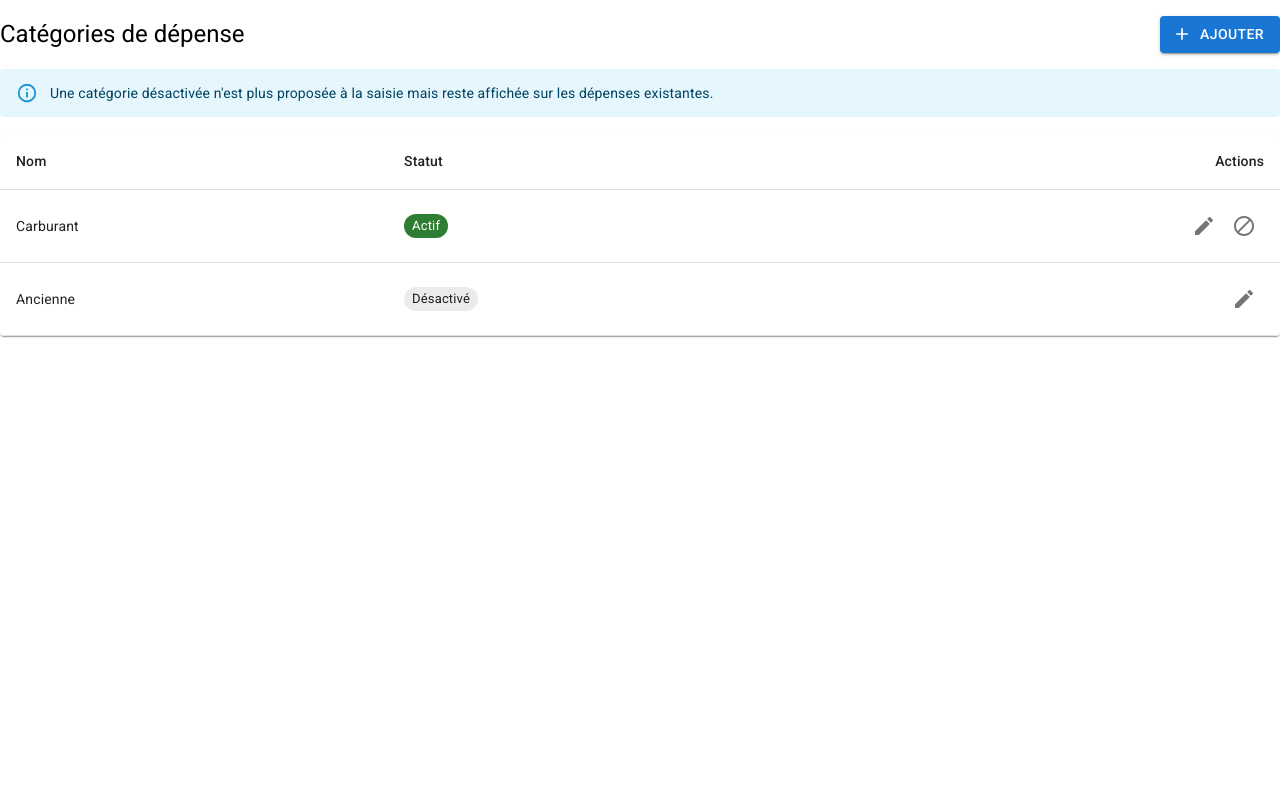
Test: ExpenseCategoriesPage › renomme une catégorie et affiche l'erreur de doublon en français
Check: the text "Carburant" is shown, box [0,189,388,262]
Click the button named "Renommer Carburant".
click(1204, 226)  # box [1184,206,1224,246]
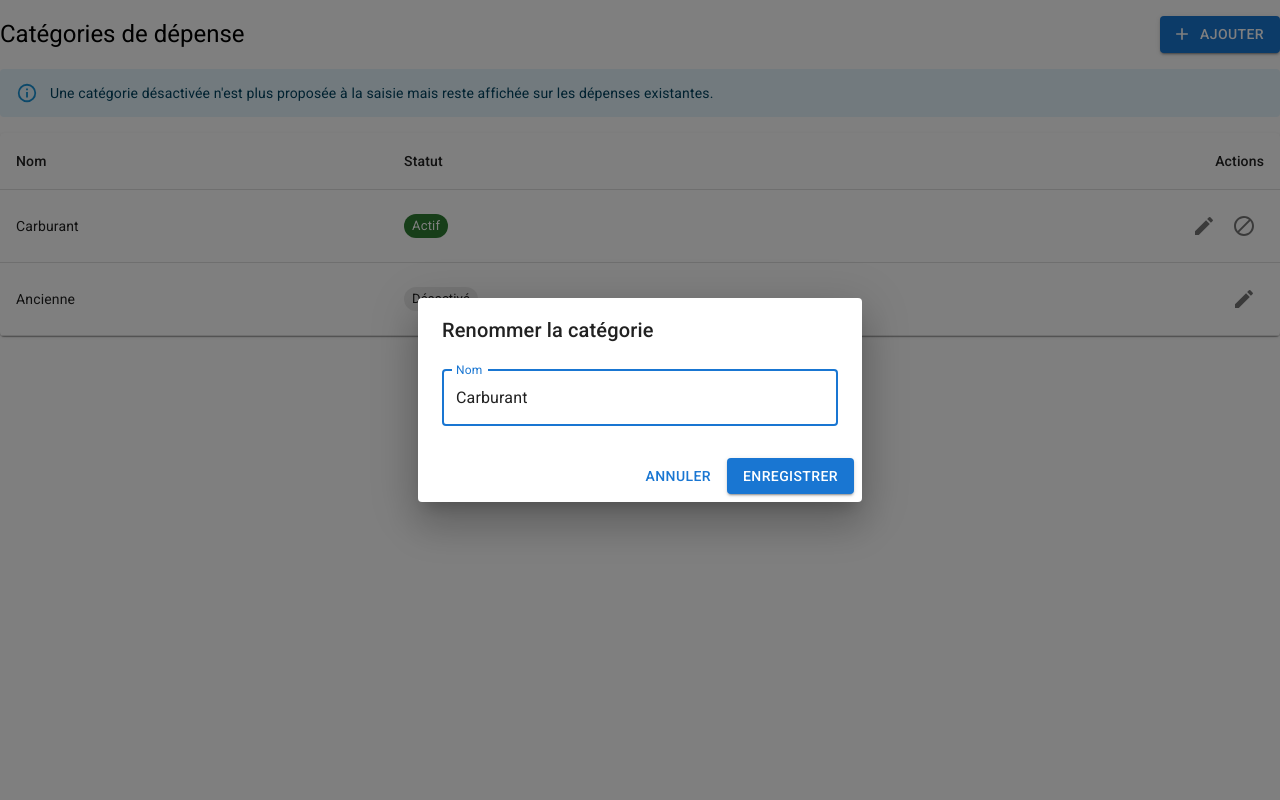
Replace the text in the field labelled "Nom" with "Péage" at (640, 398), box [442,370,838,426]
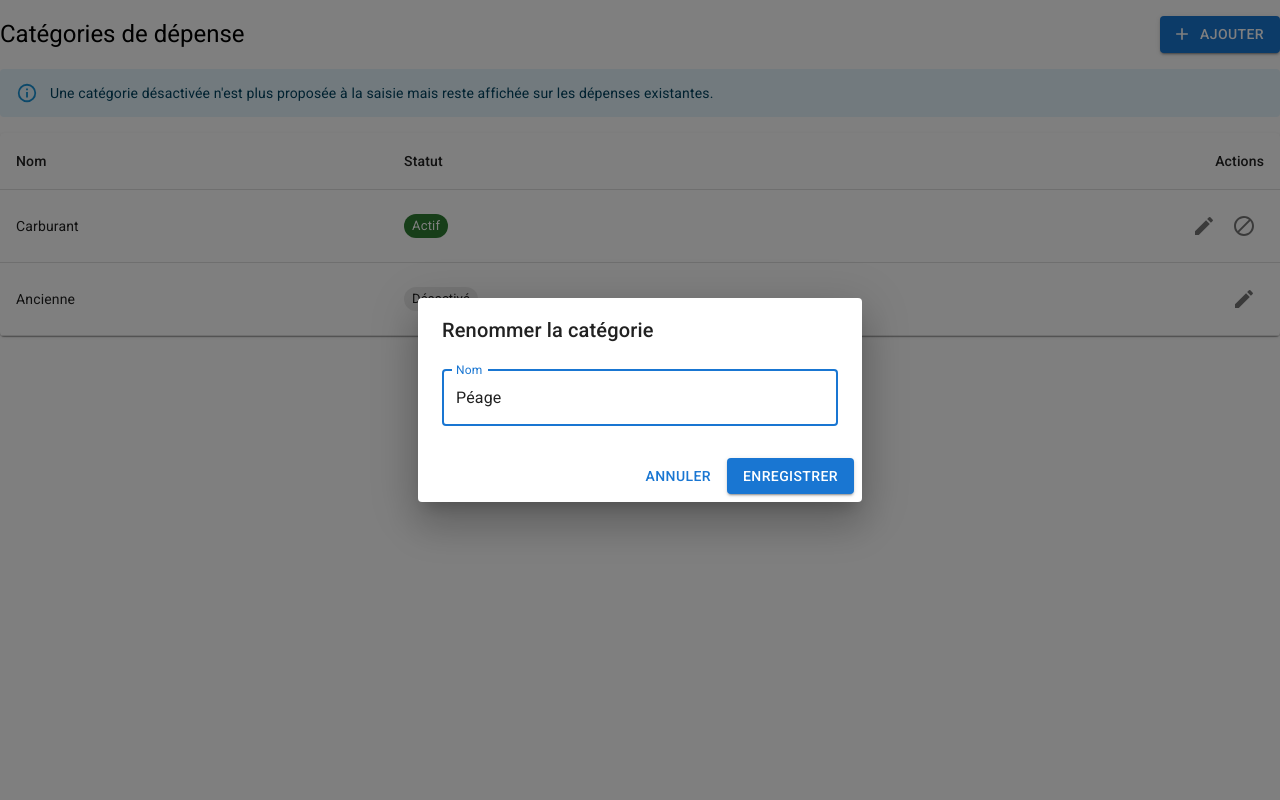
Click the button "Enregistrer".
click(790, 476)  # box [727,458,854,494]
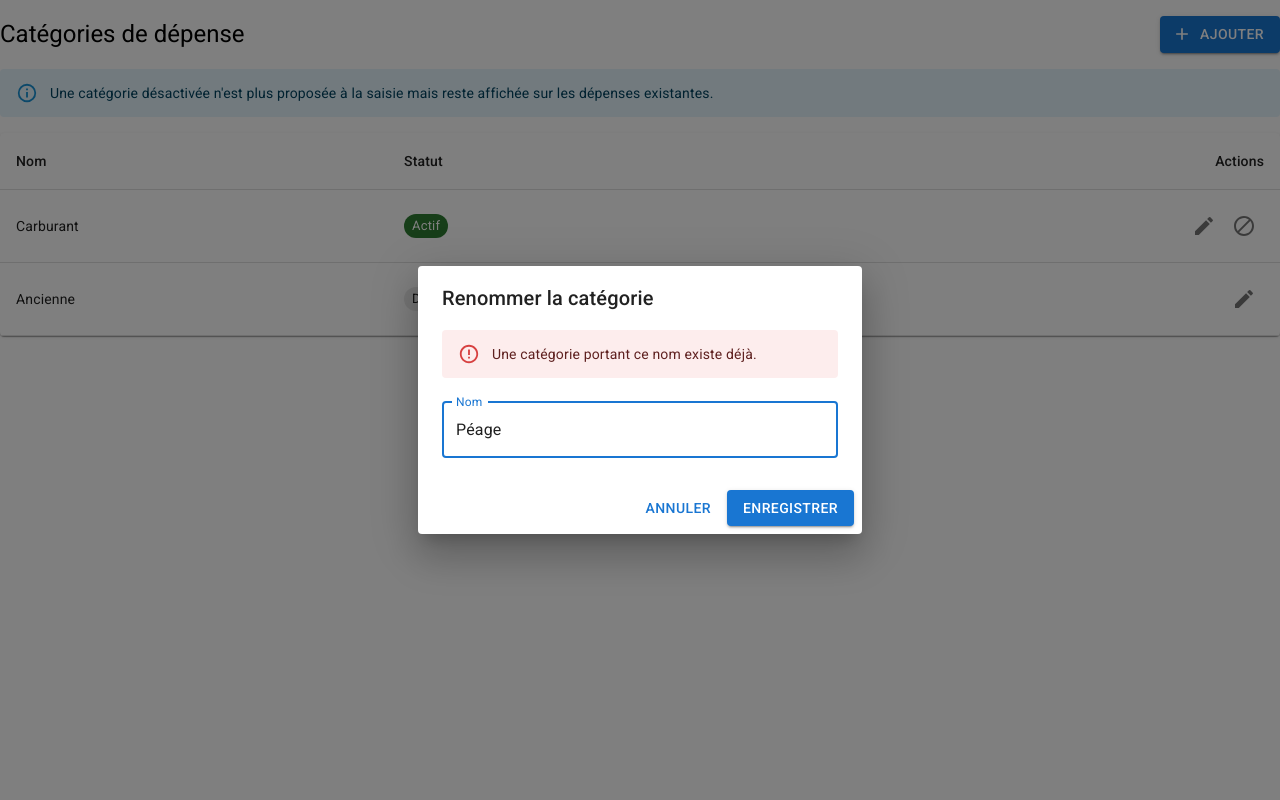
Check: the text "Une catégorie portant ce nom existe déjà." is shown, box [492,346,757,362]
